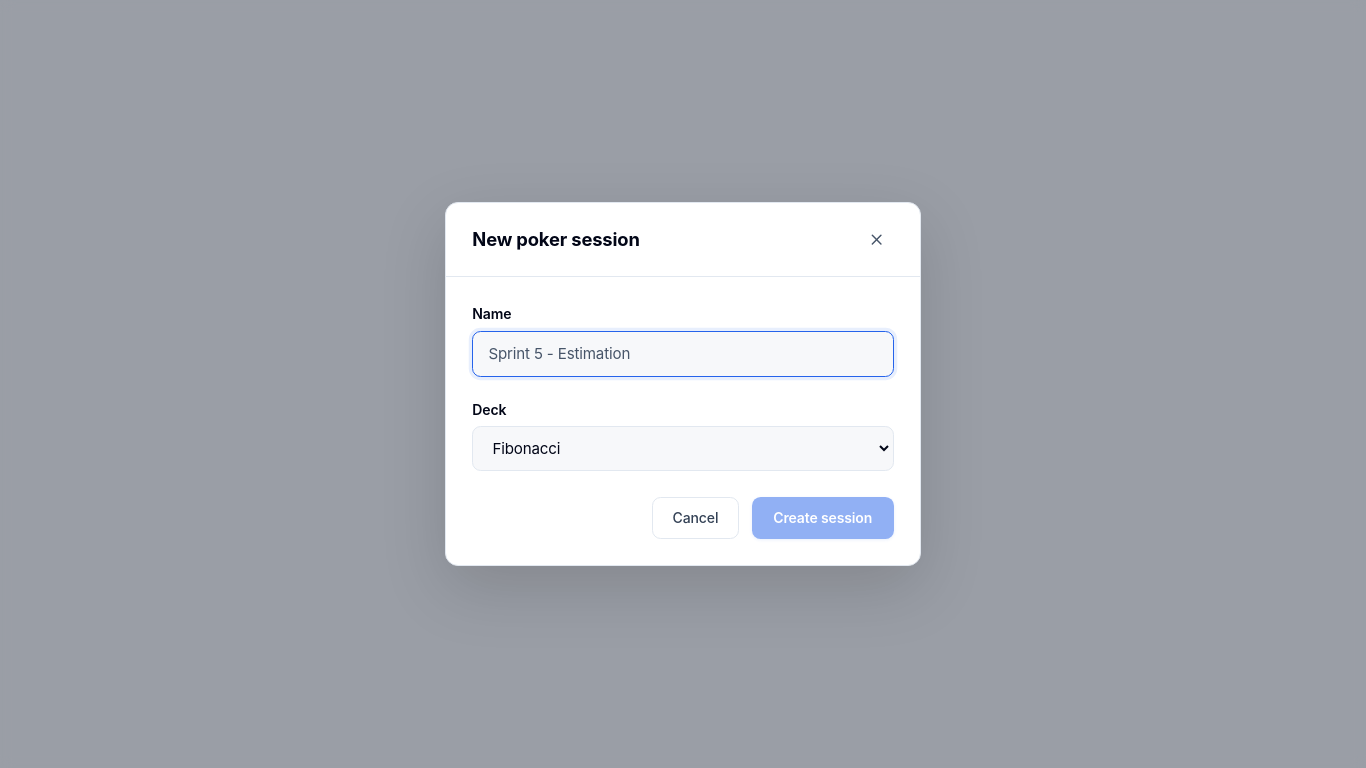
Test: planning-poker forms › keeps the create modal open and reports a rejected request
Type "Session" into the field at (683, 354), box [472, 331, 894, 377]
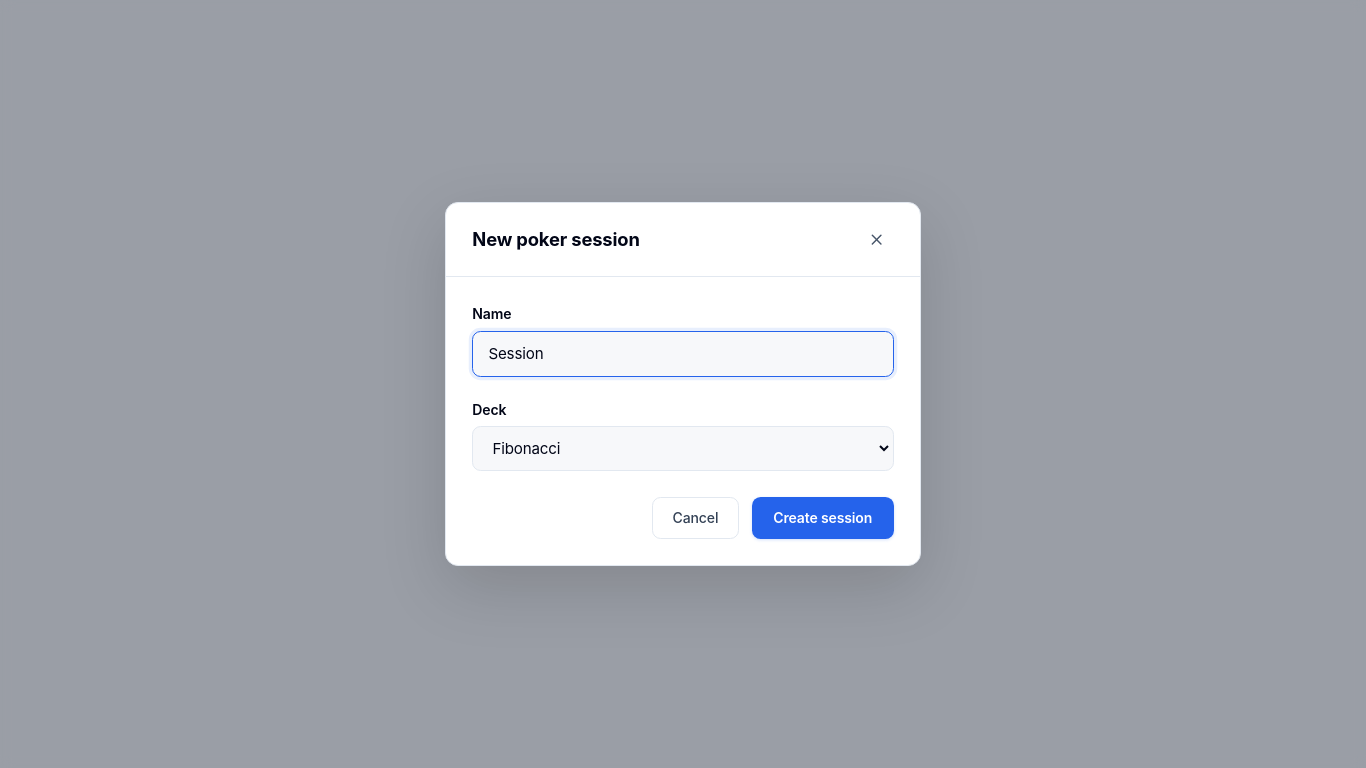
Click the button "Create session" at (823, 518), box [752, 497, 894, 539]
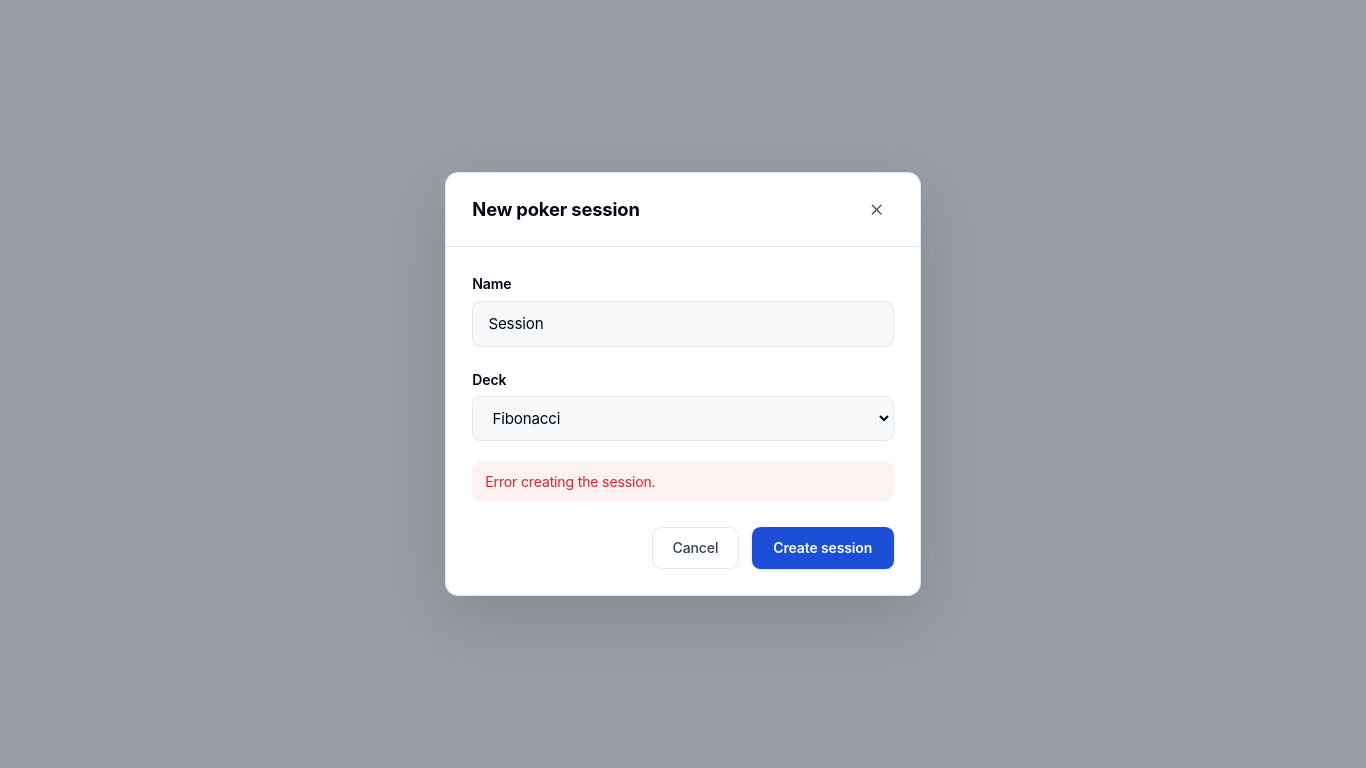
Now the text "Error creating the session." is shown, box [472, 462, 894, 501]
